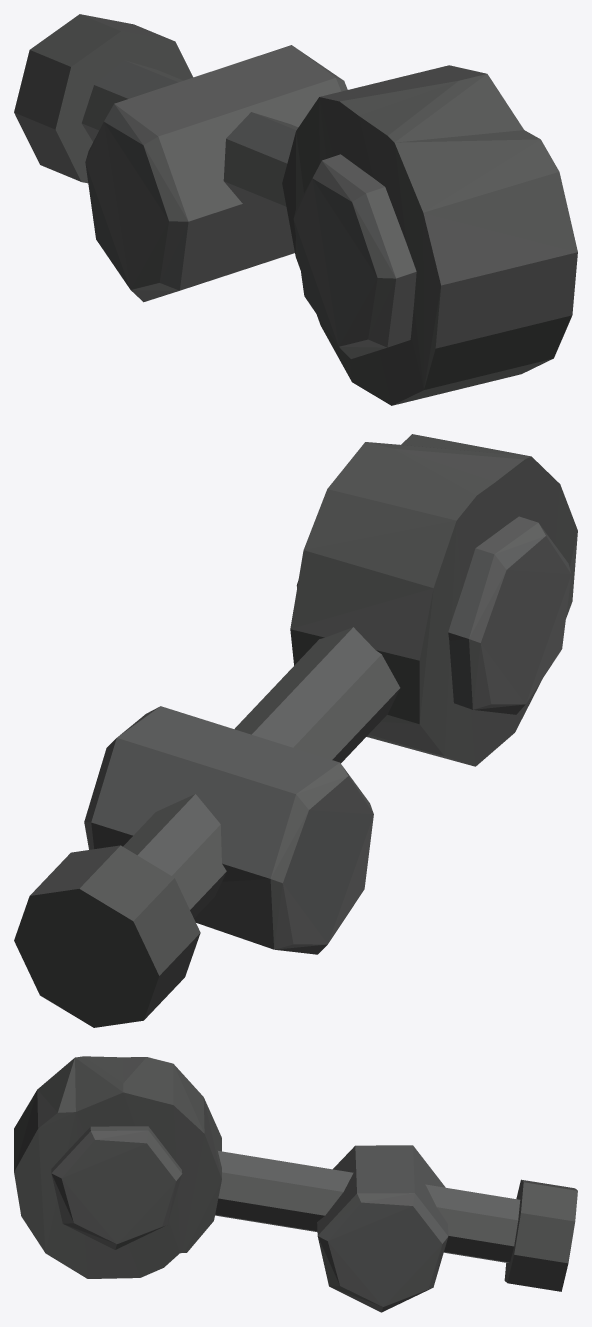
The model's file is Board_Stand_001.fbx.
The picture shows the model from 3 angles, top to bottom: view 1: azimuth 30°, elevation 25°; view 2: azimuth 150°, elevation 25°; view 3: azimuth 270°, elevation 25°; orthographic projection. The views are drawn at different scales.
Parts seen in each view (by area): view 1: Board_Stand_001; view 2: Board_Stand_001; view 3: Board_Stand_001.
Part boxes in pixels (x1=…): Board_Stand_001: x1=14, y1=14, x2=577, y2=405; Board_Stand_001: x1=14, y1=434, x2=577, y2=1027; Board_Stand_001: x1=14, y1=1056, x2=577, y2=1312.
Size of the model in its own units: 0.0588 by 0.0916 by 0.2132.
